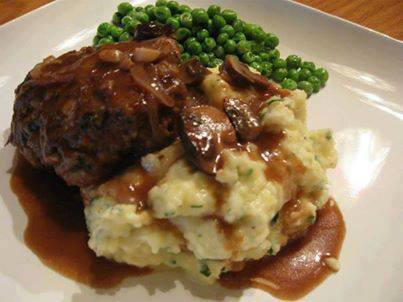ground_beef: (5, 26, 207, 179)
